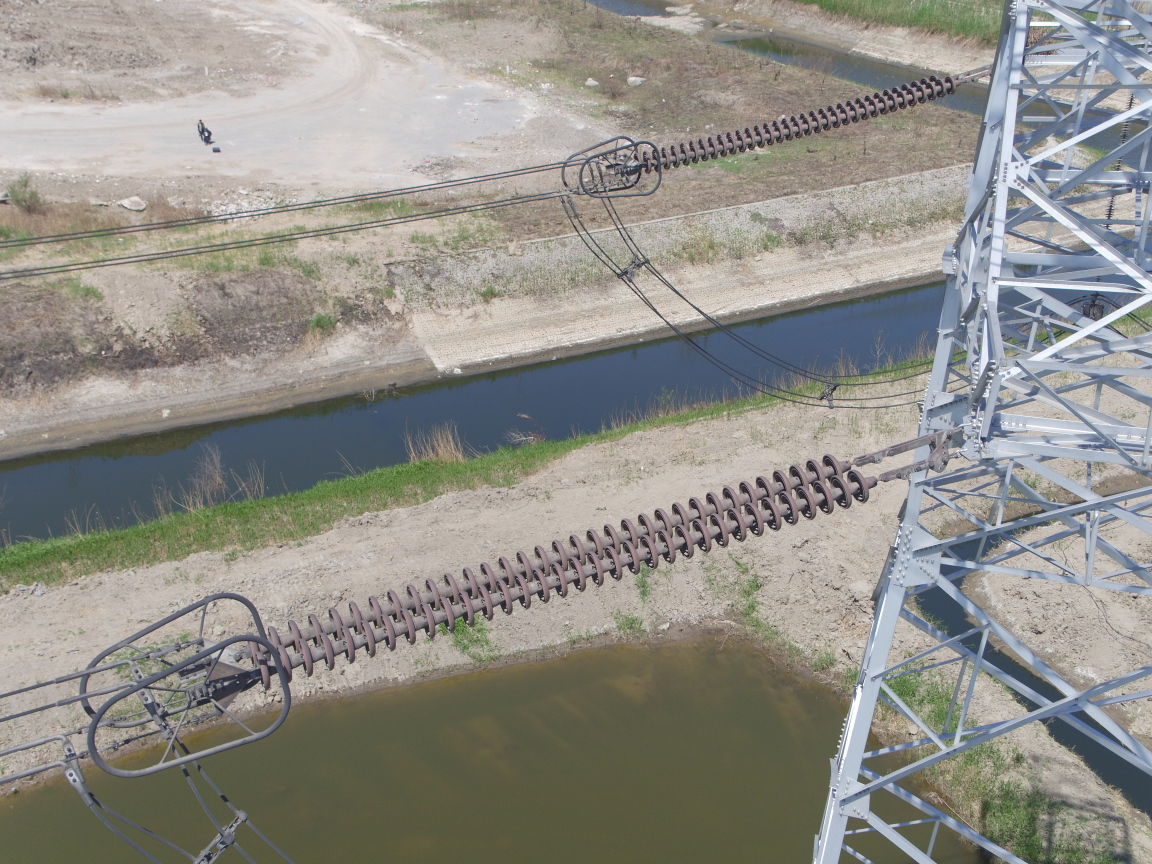insulator: (233, 442, 894, 691), (637, 64, 983, 174)
